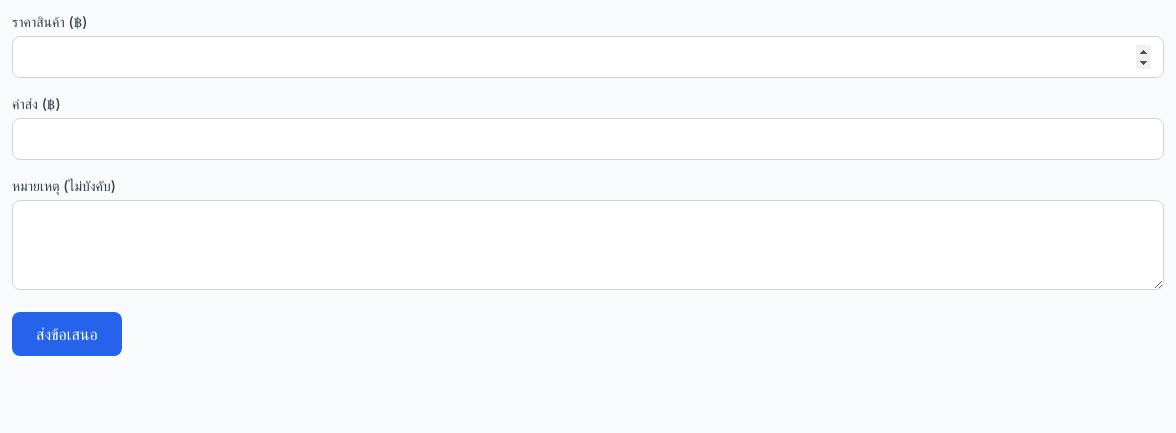
Test: OfferForm › shows error message on submission failure
The image size is (1176, 433).
Type "1" into the number field labelled "ราคาสินค้า (฿)" at (588, 57), box x1=12 y1=36 x2=1164 y2=78
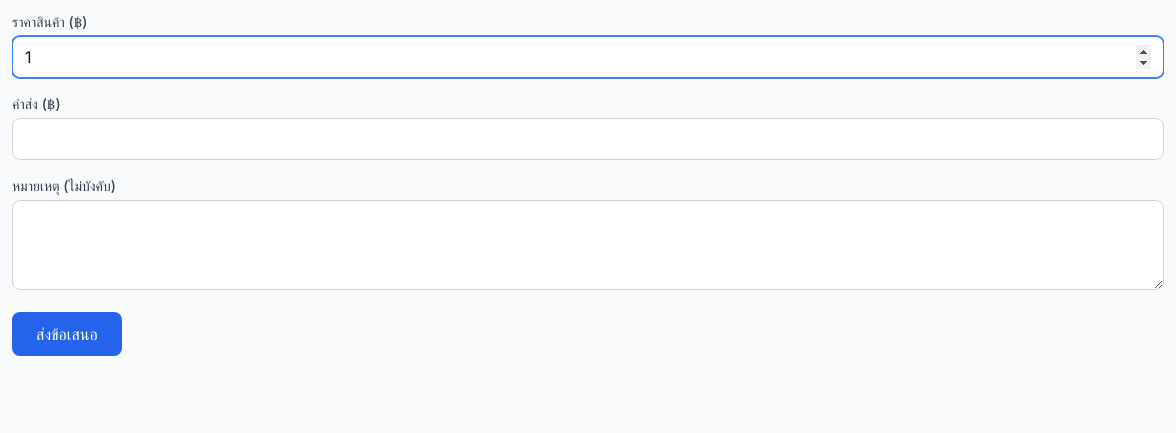
Type "0" into the number field labelled "ค่าส่ง (฿)" at (588, 139), box x1=12 y1=118 x2=1164 y2=160
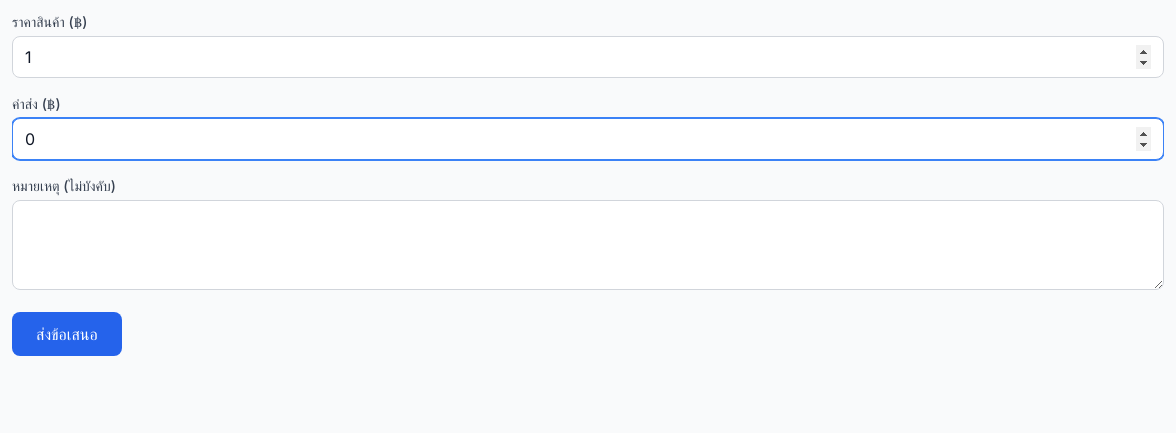
Click the button "ส่งข้อเสนอ" at (67, 334), box x1=12 y1=312 x2=122 y2=356
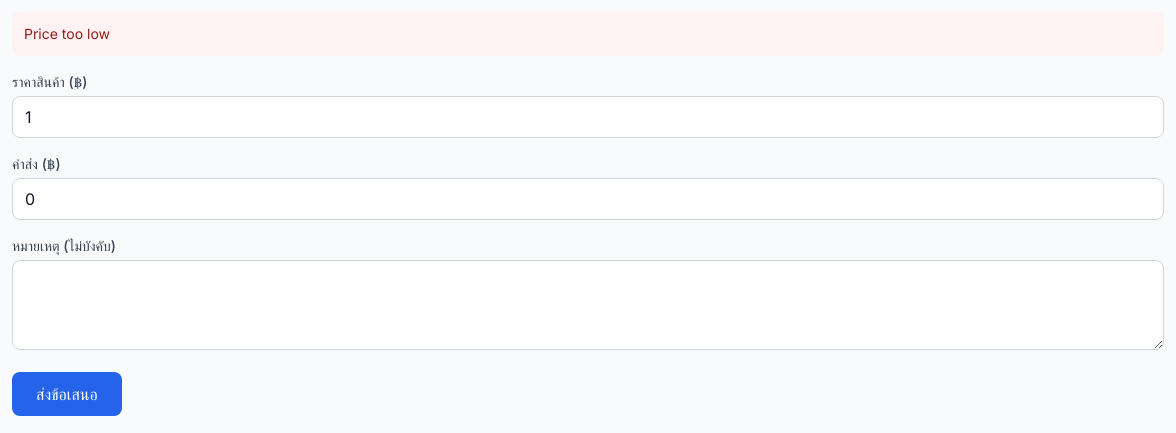
Check: the text "Price too low" is shown, box x1=12 y1=12 x2=1164 y2=56
